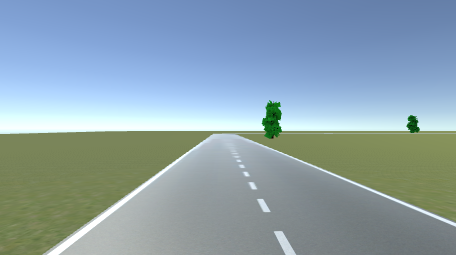tree: (261, 101, 284, 141), (406, 113, 421, 134)
